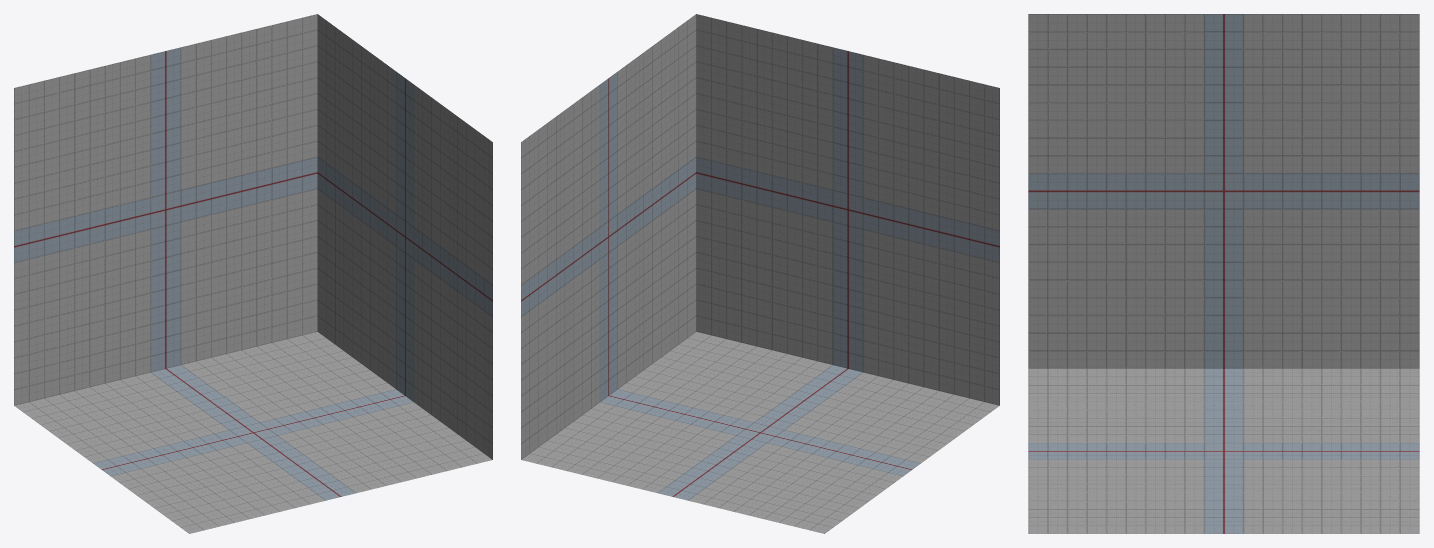
The model's file is Sandbox.gltf.
The picture shows the model from 3 angles, left to right: view 1: azimuth 30°, elevation 25°; view 2: azimuth 150°, elevation 25°; view 3: azimuth 270°, elevation 25°; orthographic projection. The views are drawn at different scales.
Visible parts, largest first — view 1: Tile_011; view 2: Tile_011; view 3: Tile_011.
Boxes of the visible parts, box(x1,y1,x2,y2) form: Tile_011: box(14, 14, 492, 533); Tile_011: box(521, 14, 999, 533); Tile_011: box(1028, 14, 1419, 533).
Size of the model in its own units: 0.2 by 0.2 by 0.2.
Materials: 1 (1 with a texture image).
